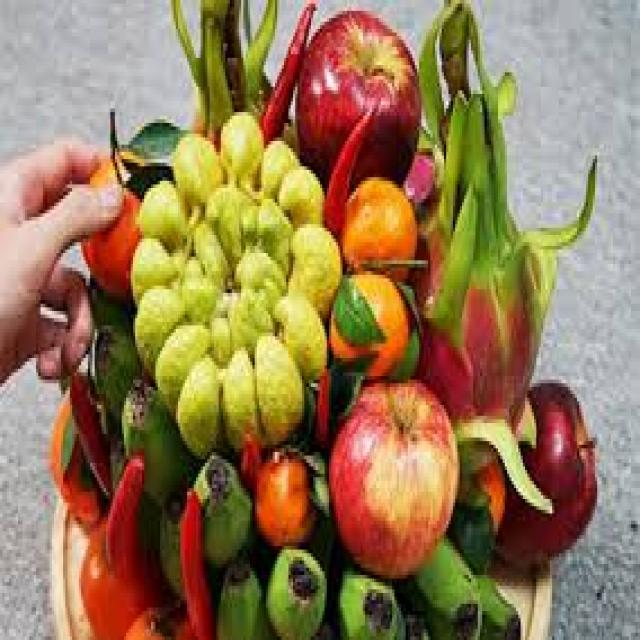Cam: (322, 264, 423, 381), (342, 166, 424, 285)
PhatThu: (136, 111, 347, 460)
